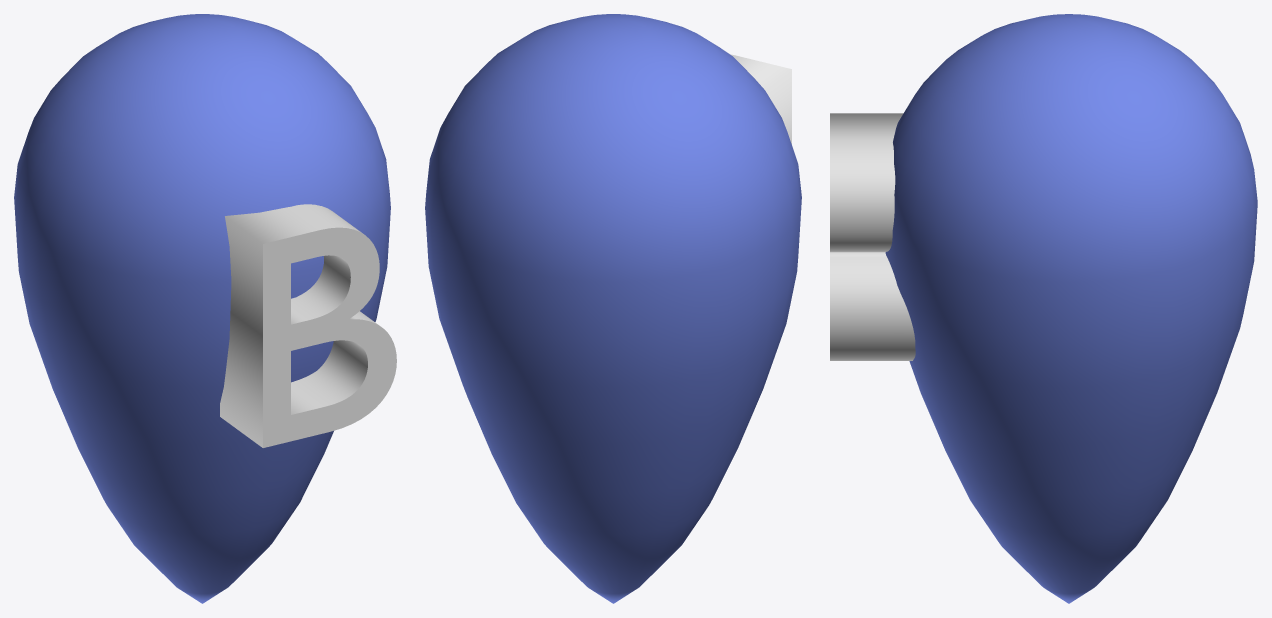
File: bEntrancePin.glb
The picture shows the model from 3 angles, left to right: view 1: azimuth 30°, elevation 25°; view 2: azimuth 150°, elevation 25°; view 3: azimuth 270°, elevation 25°; orthographic projection.
Parts seen in each view (by area): view 1: pin, Text.002; view 2: pin, Text.002; view 3: pin, Text.002.
Part boxes in pixels (bbox=[...]): pin: bbox=[14, 14, 390, 603]; Text.002: bbox=[220, 204, 396, 447]; pin: bbox=[425, 14, 801, 603]; Text.002: bbox=[730, 54, 791, 144]; pin: bbox=[885, 14, 1257, 603]; Text.002: bbox=[830, 113, 915, 360].
Bounding box in the file's own units: 0.2435 × 0.4072 × 0.2757.
